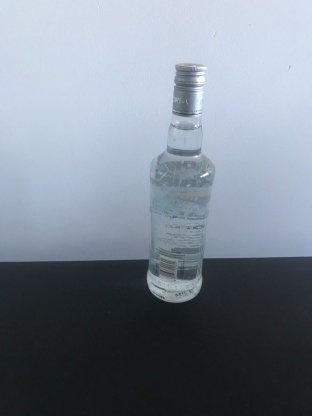nakretka: (170, 60, 208, 119)
